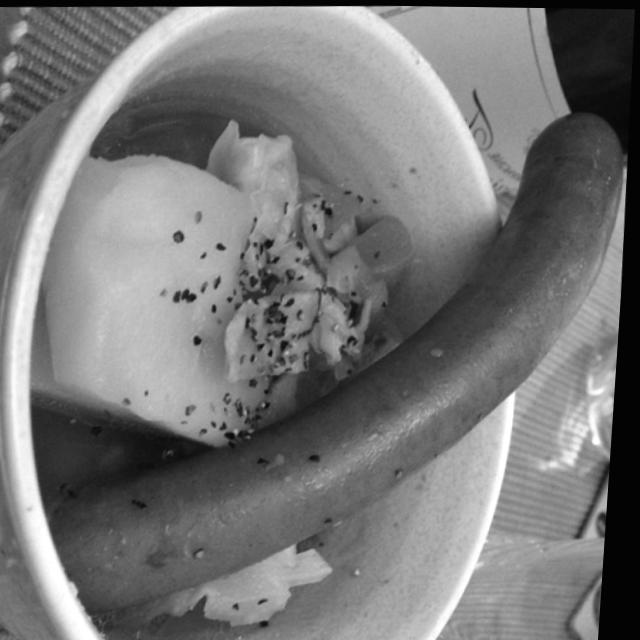汤锅炖物: (4, 9, 624, 635)
